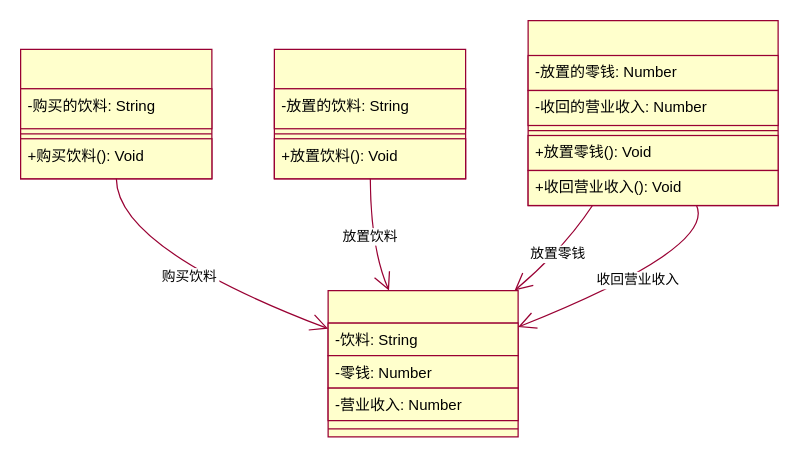
Image size: 799x458. Some labels were removed from this diagram. The box of each missing label's shape, as (x1, y1, x2, y2) in pixels:
供应商: (273, 48, 466, 179)
收银员: (527, 19, 778, 206)
顾客: (19, 48, 212, 179)
饮料自动售货机: (327, 289, 518, 437)
